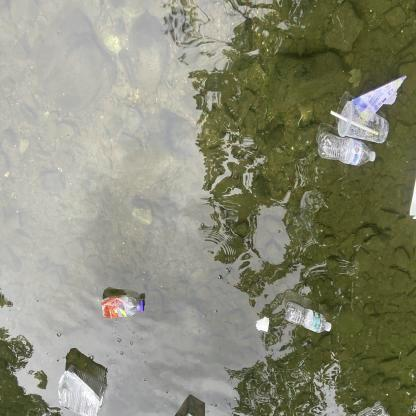Metal: (57, 362, 110, 416)
Plastic: (316, 103, 394, 168), (350, 70, 410, 121), (283, 300, 336, 336), (100, 292, 146, 322)
Trash: (406, 174, 416, 224), (254, 314, 272, 334)
